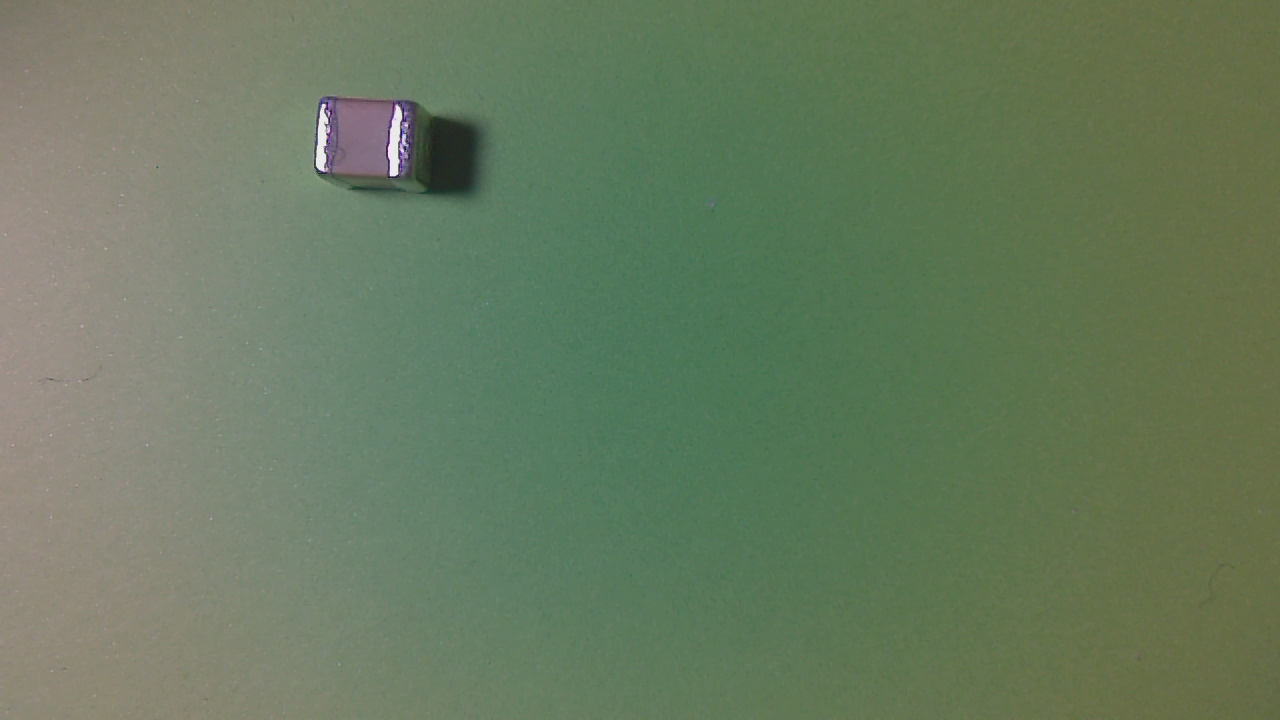Condensator: (314, 98, 417, 189)
